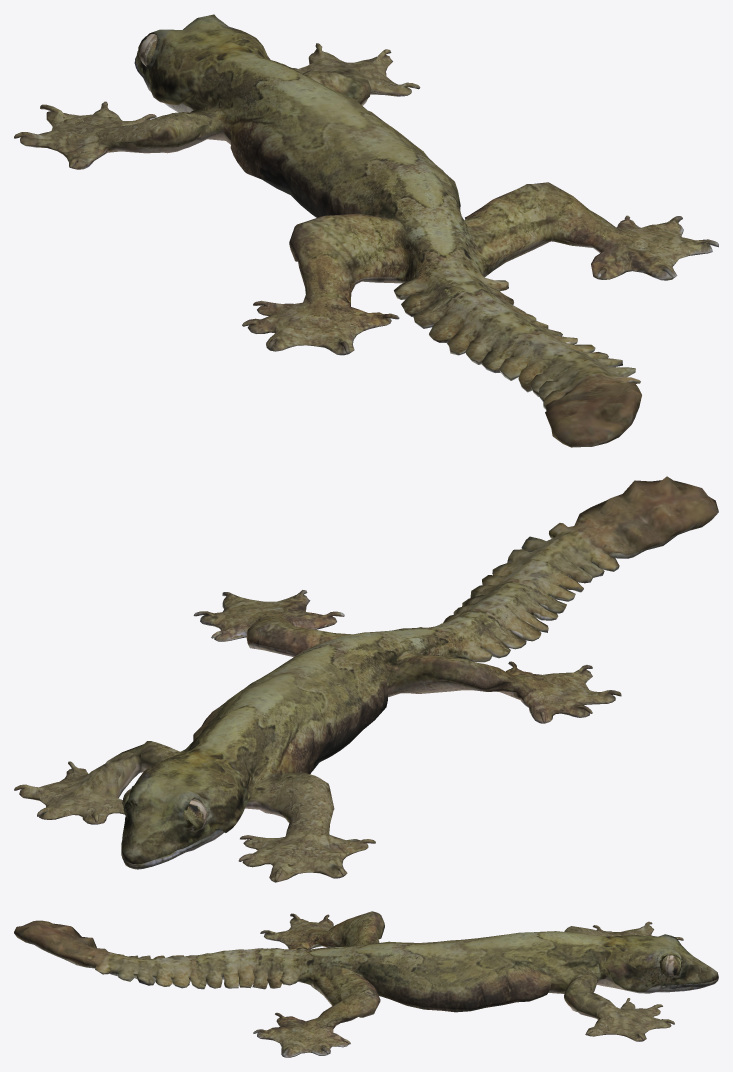
File: KuhlFlyingGecko.dae
The picture shows the model from 3 angles, top to bottom: view 1: azimuth 30°, elevation 25°; view 2: azimuth 150°, elevation 25°; view 3: azimuth 270°, elevation 25°; orthographic projection. The views are drawn at different scales.
Parts seen in each view (by area): view 1: KuhlFlyingGecko; view 2: KuhlFlyingGecko; view 3: KuhlFlyingGecko, Mesh_1.
Boxes of the visible parts, x1=… form: KuhlFlyingGecko: x1=14, y1=14, x2=718, y2=447; KuhlFlyingGecko: x1=14, y1=476, x2=718, y2=882; KuhlFlyingGecko: x1=14, y1=911, x2=718, y2=1057; Mesh_1: x1=662, y1=955, x2=681, y2=974.
Size of the model in its own units: 0.7585 by 1.61 by 0.1381.
Materials: 2 (2 with a texture image).
